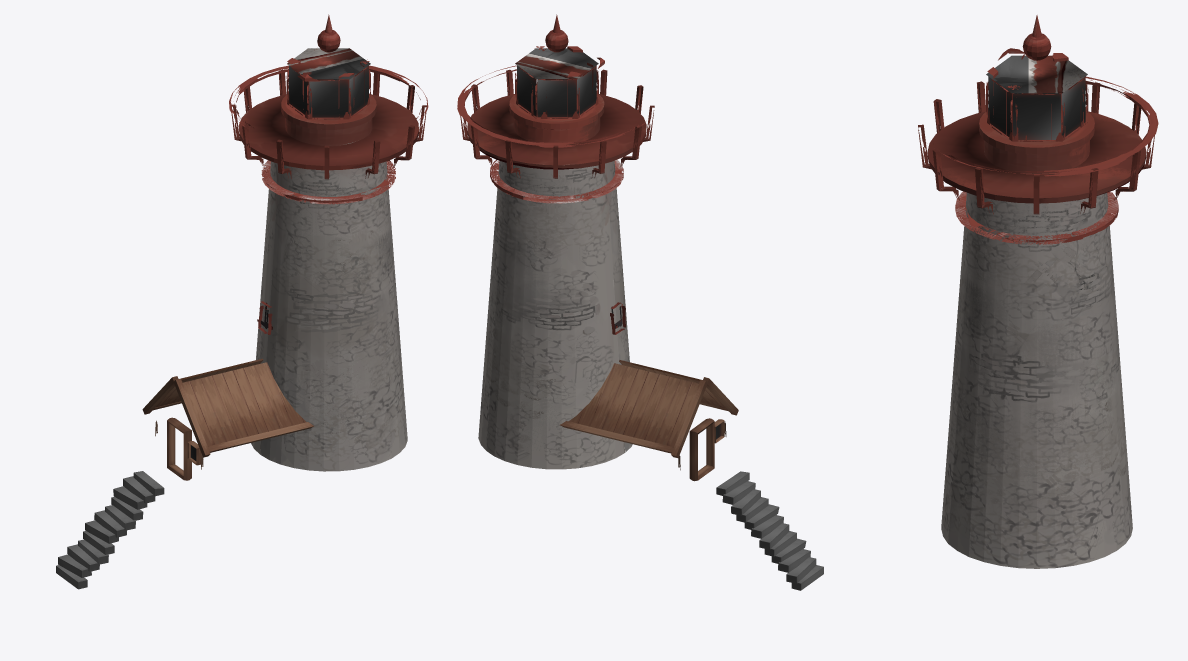
The model's file is Lighthouse_06.fbx.
3 renders of one model, left to right at view 1: azimuth 30°, elevation 25°; view 2: azimuth 150°, elevation 25°; view 3: azimuth 270°, elevation 25°, orthographic. The views are drawn at different scales.
Visible parts, largest first — view 1: Lighthouse06; view 2: Lighthouse06; view 3: Lighthouse06.
Boxes of the visible parts, <box> form: Lighthouse06: <box>56,14,428,589</box>; Lighthouse06: <box>457,14,823,590</box>; Lighthouse06: <box>918,15,1158,568</box>.
Size of the model in its own units: 19.48 by 26.86 by 10.53.
6 materials, 6 textured.
